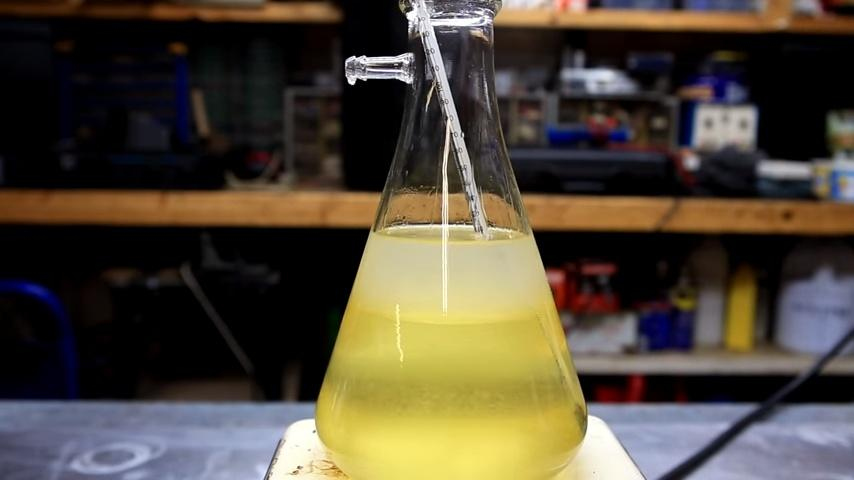Titrarion: (318, 9, 592, 469)
